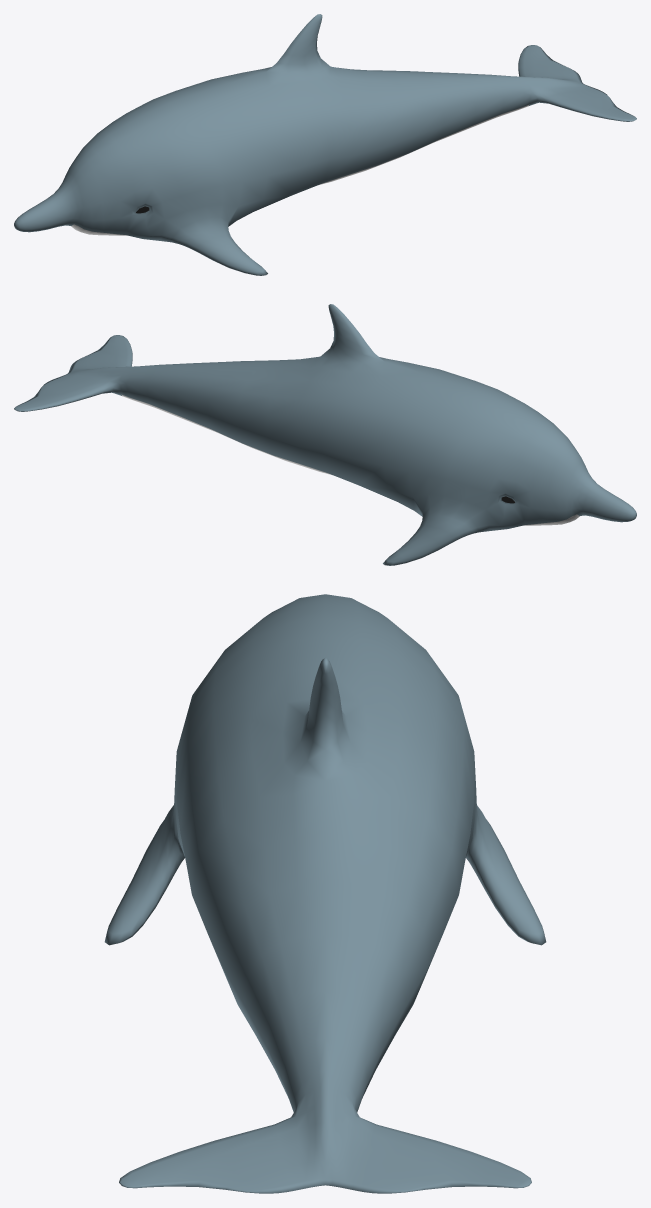
File: Dolphin_001.glb
3 views of the same model, one above another, from view 1: azimuth 30°, elevation 25°; view 2: azimuth 150°, elevation 25°; view 3: azimuth 270°, elevation 25° (orthographic). The views are drawn at different scales.
Visible parts, largest first — view 1: Dolphin_001; view 2: Dolphin_001; view 3: Dolphin_001.
Part boxes in pixels (<box>): Dolphin_001: <box>14,14,636,275</box>; Dolphin_001: <box>14,304,636,565</box>; Dolphin_001: <box>104,594,546,1193</box>.
Bounding box in the file's own units: 3.13 × 1.01 × 1.04.
1 material, 1 textured.
